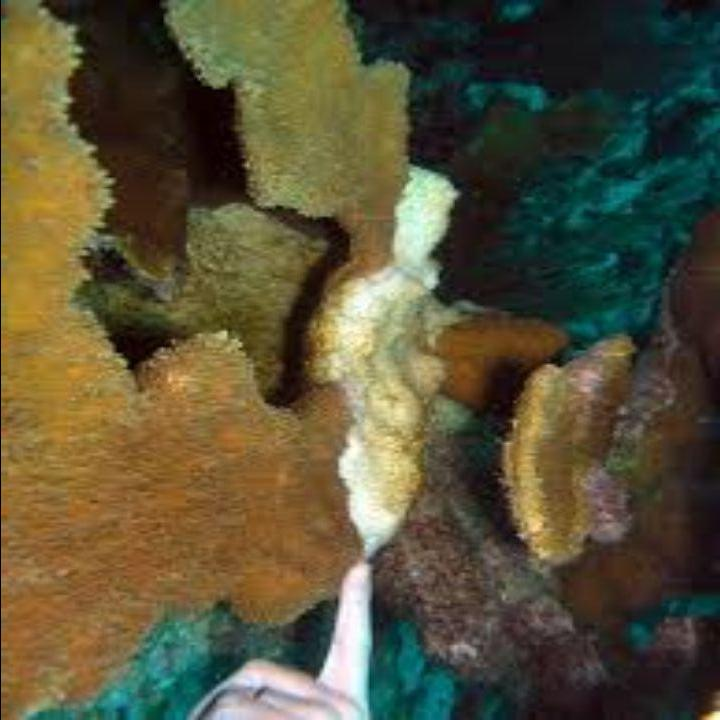White Pox Disease: (304, 176, 502, 589)
